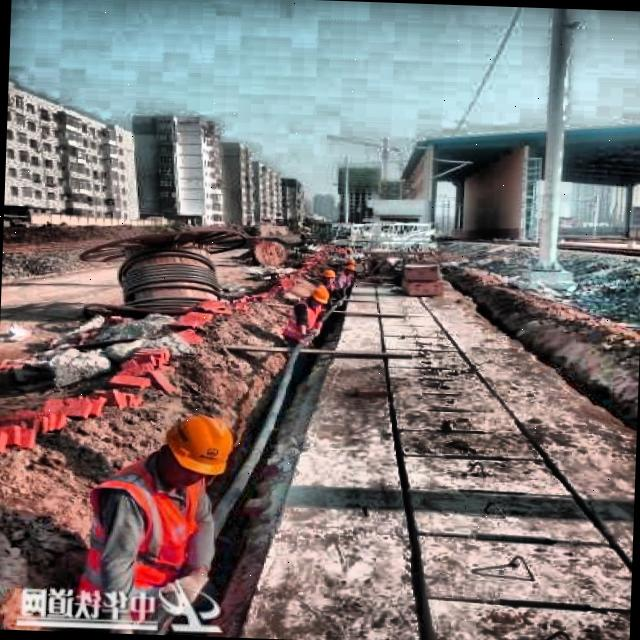helmet: (164, 408, 232, 489), (298, 286, 334, 310), (312, 264, 342, 288)
